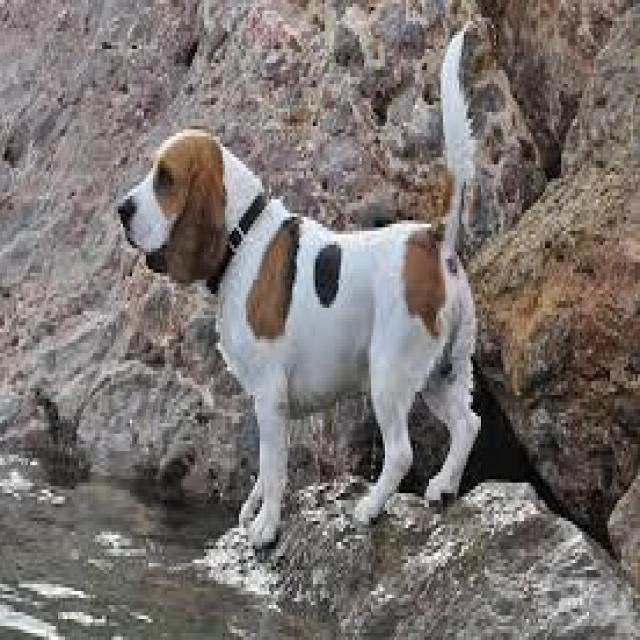Dog: (116, 20, 484, 553)
